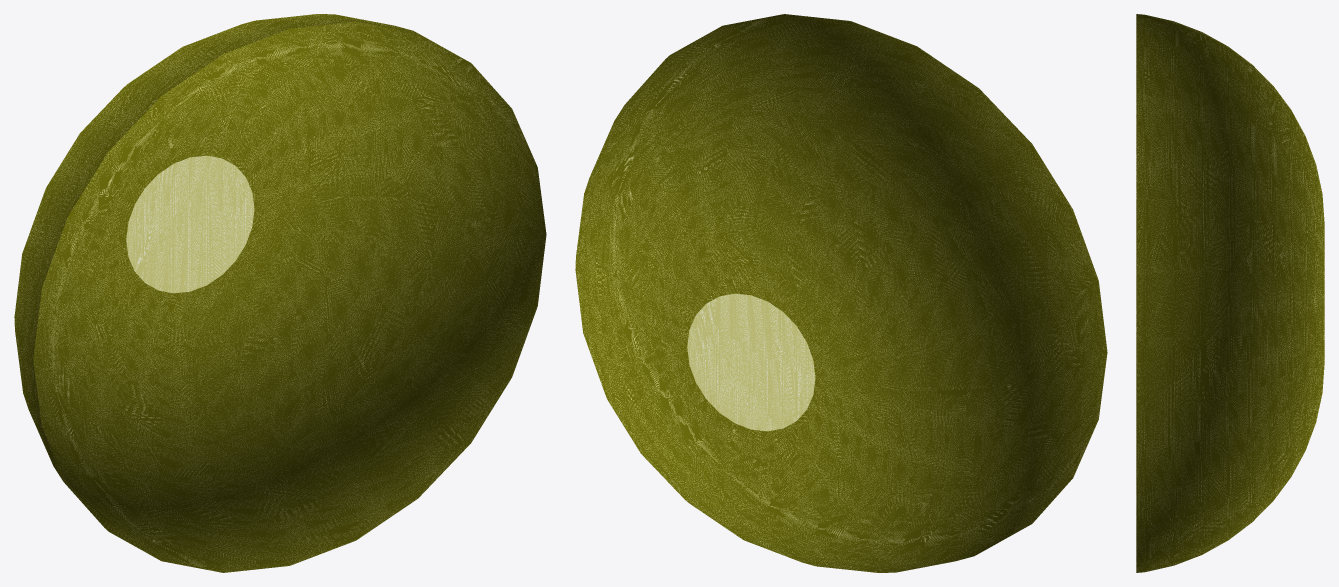
The model's file is model_align.obj.
3 views of the same model, side by side, from view 1: azimuth 30°, elevation 25°; view 2: azimuth 150°, elevation 25°; view 3: azimuth 270°, elevation 25° (orthographic). The views are drawn at different scales.
Parts seen in each view (by area): view 1: mesh1_mesh1-geometry; view 2: mesh1_mesh1-geometry; view 3: mesh1_mesh1-geometry.
Part boxes in pixels (x1=…): mesh1_mesh1-geometry: x1=14, y1=14, x2=546, y2=572; mesh1_mesh1-geometry: x1=575, y1=14, x2=1107, y2=572; mesh1_mesh1-geometry: x1=1136, y1=14, x2=1324, y2=572.
Size of the model in its own units: 0.1508 by 0.1508 by 0.0506.
